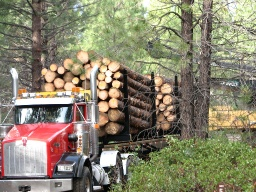truck: (1, 70, 107, 192)
